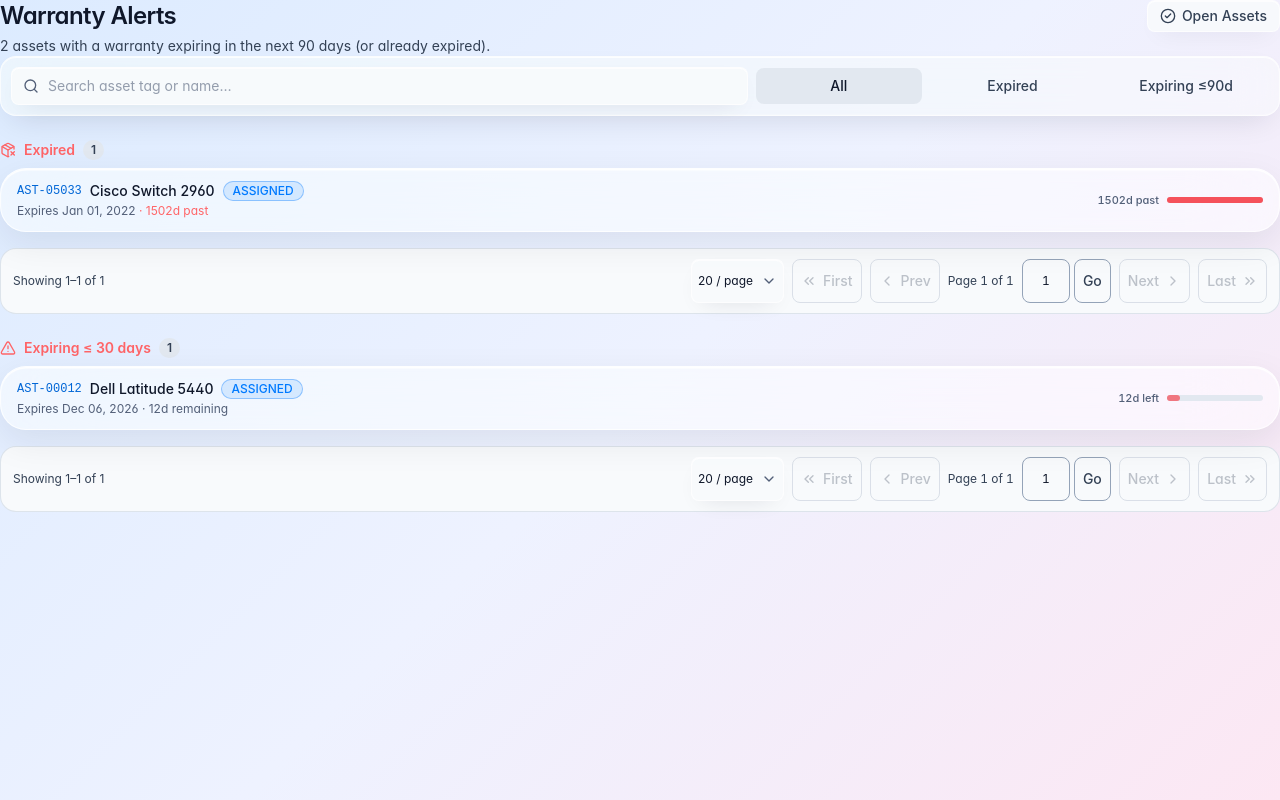
Scenario: Warranty view (task 9) › filters warranty alerts by search text
In the search field: (380, 86) [11,67,748,105], type "Cisco"
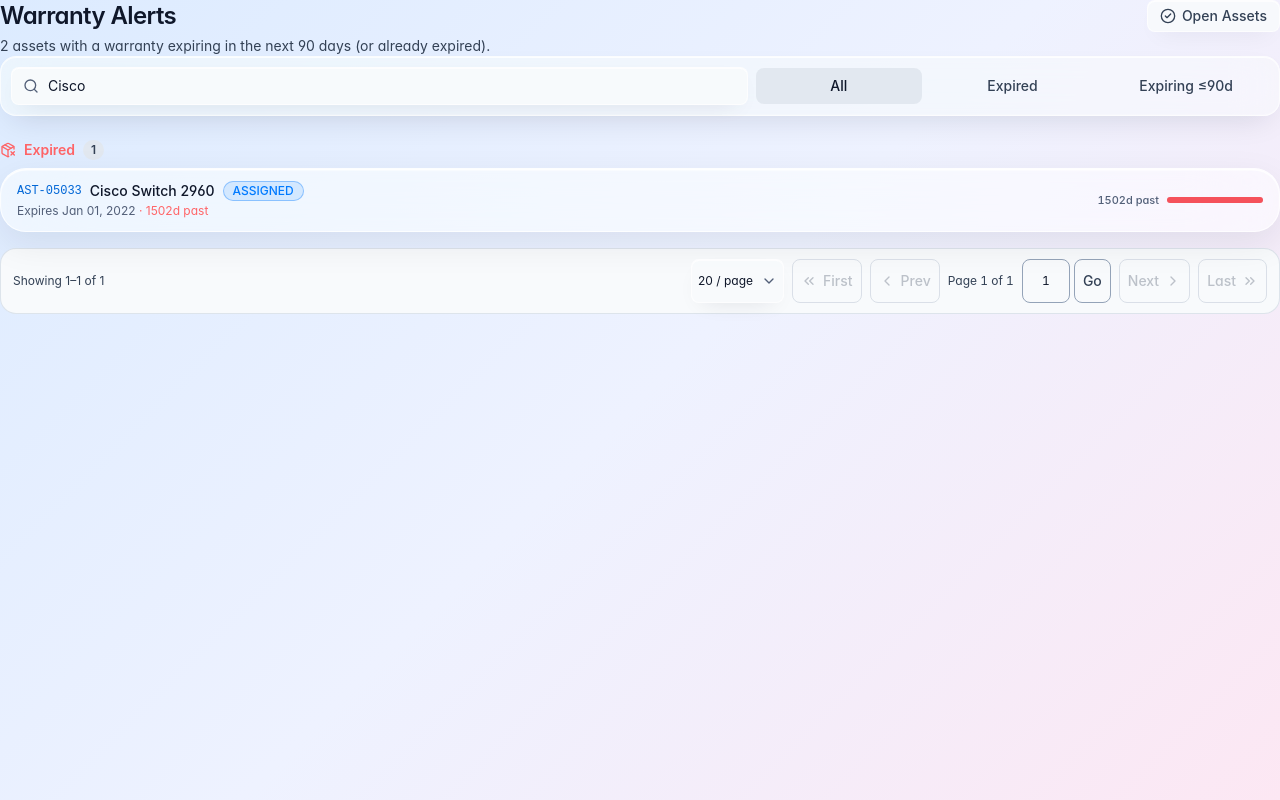
Expected: the text "AST-05033" is shown, [17,183,82,199]
Expected: the button "Dell Latitude" is gone
